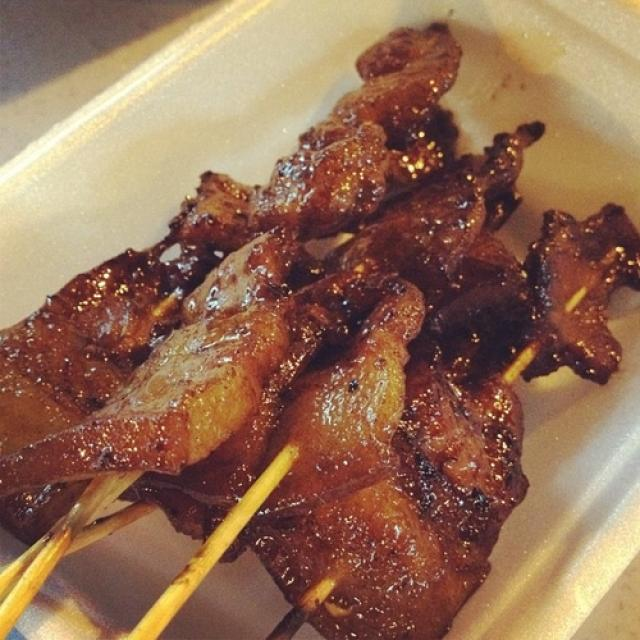牛肉菜式: (23, 34, 613, 620)
